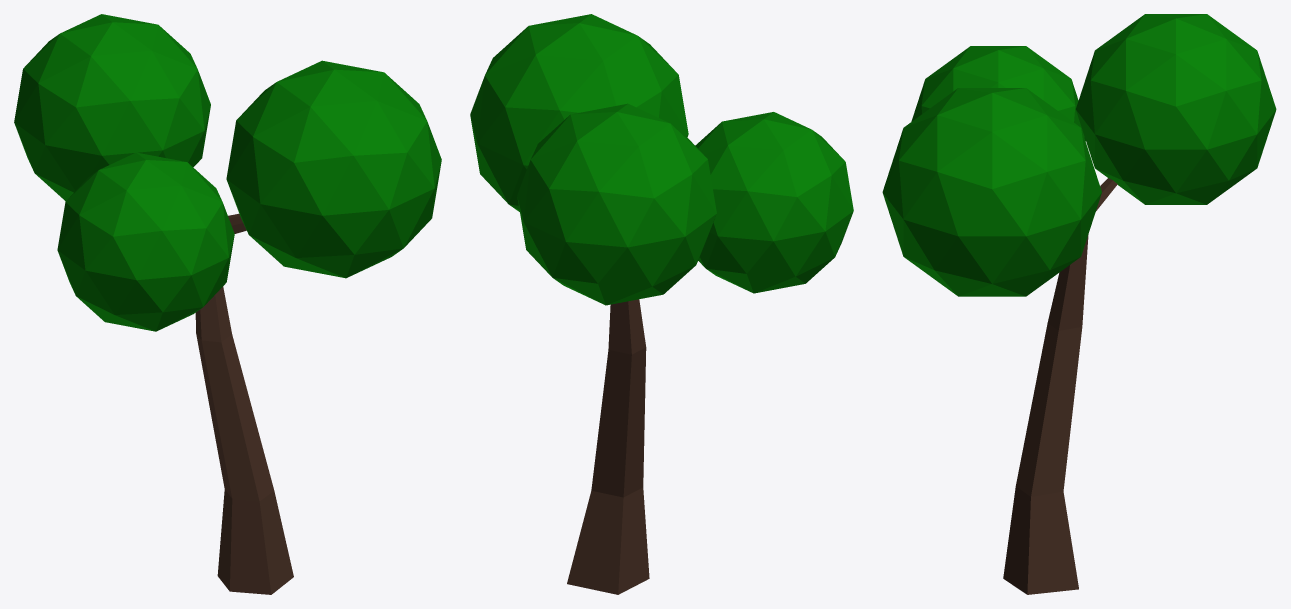
Rendered from arbre.fbx.
3 views of the same model, side by side, from view 1: azimuth 30°, elevation 25°; view 2: azimuth 150°, elevation 25°; view 3: azimuth 270°, elevation 25° (orthographic).
Visible parts, largest first — view 1: polySurface4; view 2: polySurface4; view 3: polySurface4.
Boxes of the visible parts, x1,y1,x2,y2 form: polySurface4: [14, 14, 441, 594]; polySurface4: [470, 14, 853, 594]; polySurface4: [882, 14, 1276, 594].
Bounding box in the file's own units: 412 × 593 × 402.
